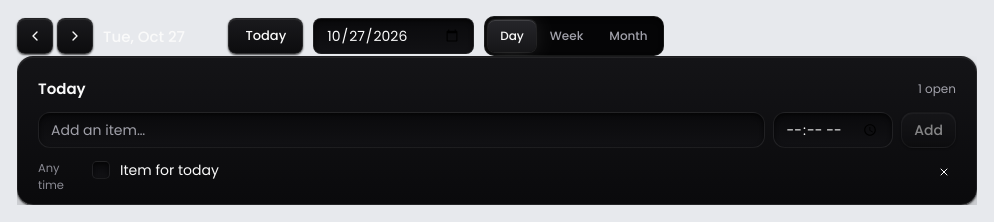
Test: TodoScreen reload › ignores a slower response for an earlier range that resolves after the latest one
Check: the text "Item for today" is shown, box 120,160 -> 219,180
Click the button named "Next" at (75, 36), box 57,18 -> 93,54
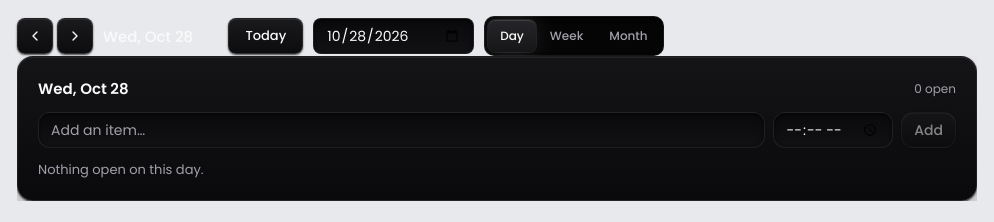
Click the button named "Previous" at (35, 36), box 17,18 -> 53,54
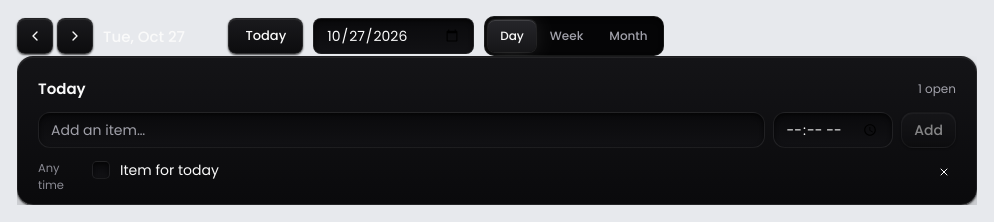
Check: the text "Item for today" is shown, box 120,160 -> 219,180
